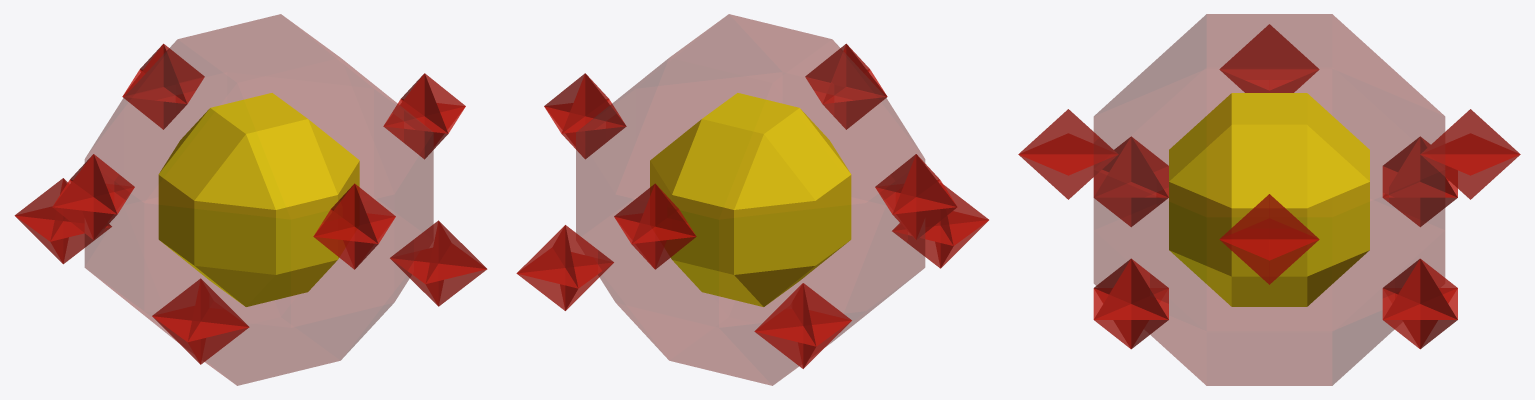
The model's file is model_3082_spotanim.obj.
3 renders of one model, left to right at view 1: azimuth 30°, elevation 25°; view 2: azimuth 150°, elevation 25°; view 3: azimuth 270°, elevation 25°, orthographic. The views are drawn at different scales.
Visible parts, largest first — view 1: 3082; view 2: 3082; view 3: 3082.
Boxes of the visible parts, bbox=[...] form: 3082: bbox=[14, 14, 487, 385]; 3082: bbox=[516, 14, 988, 385]; 3082: bbox=[1018, 14, 1520, 385].
Bounding box in the file's own units: 40 × 28 × 40.
